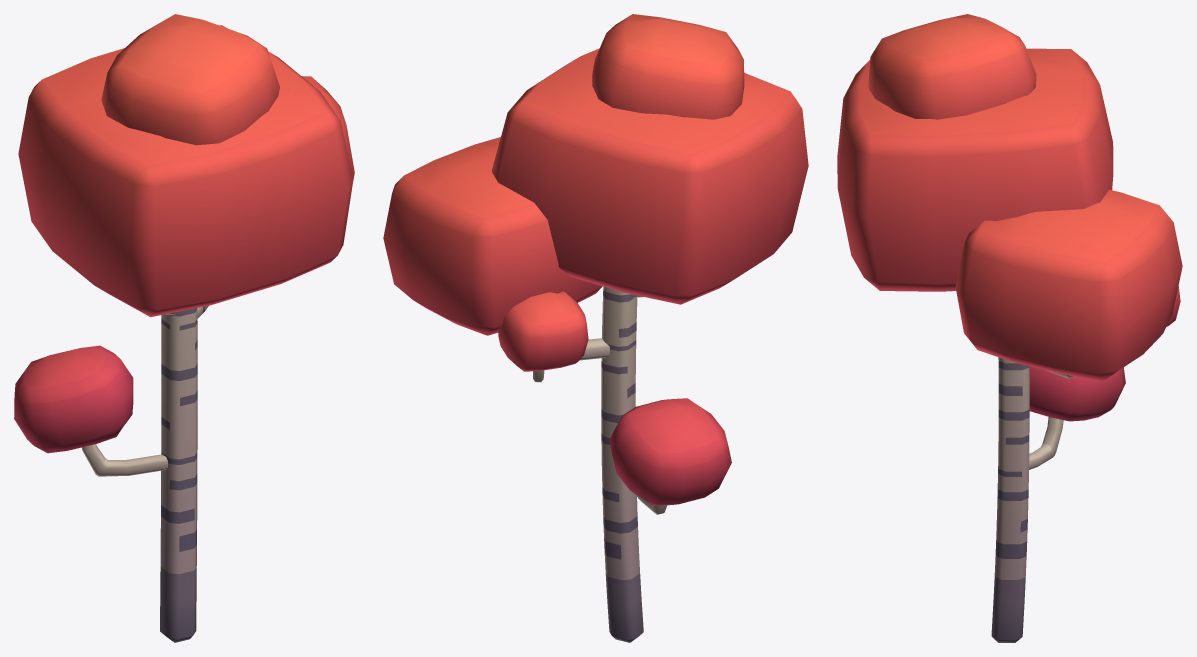
Rendered from birch_tree_free.fbx.
3 renders of one model, left to right at view 1: azimuth 30°, elevation 25°; view 2: azimuth 150°, elevation 25°; view 3: azimuth 270°, elevation 25°, orthographic. The views are drawn at different scales.
Visible parts, largest first — view 1: birch_tree_SC_free; view 2: birch_tree_SC_free; view 3: birch_tree_SC_free.
Boxes of the visible parts, x1,y1,x2,y2 form: birch_tree_SC_free: (14, 14, 354, 642); birch_tree_SC_free: (383, 14, 808, 642); birch_tree_SC_free: (837, 14, 1182, 642).
Size of the model in its own units: 526 by 937 by 483.
